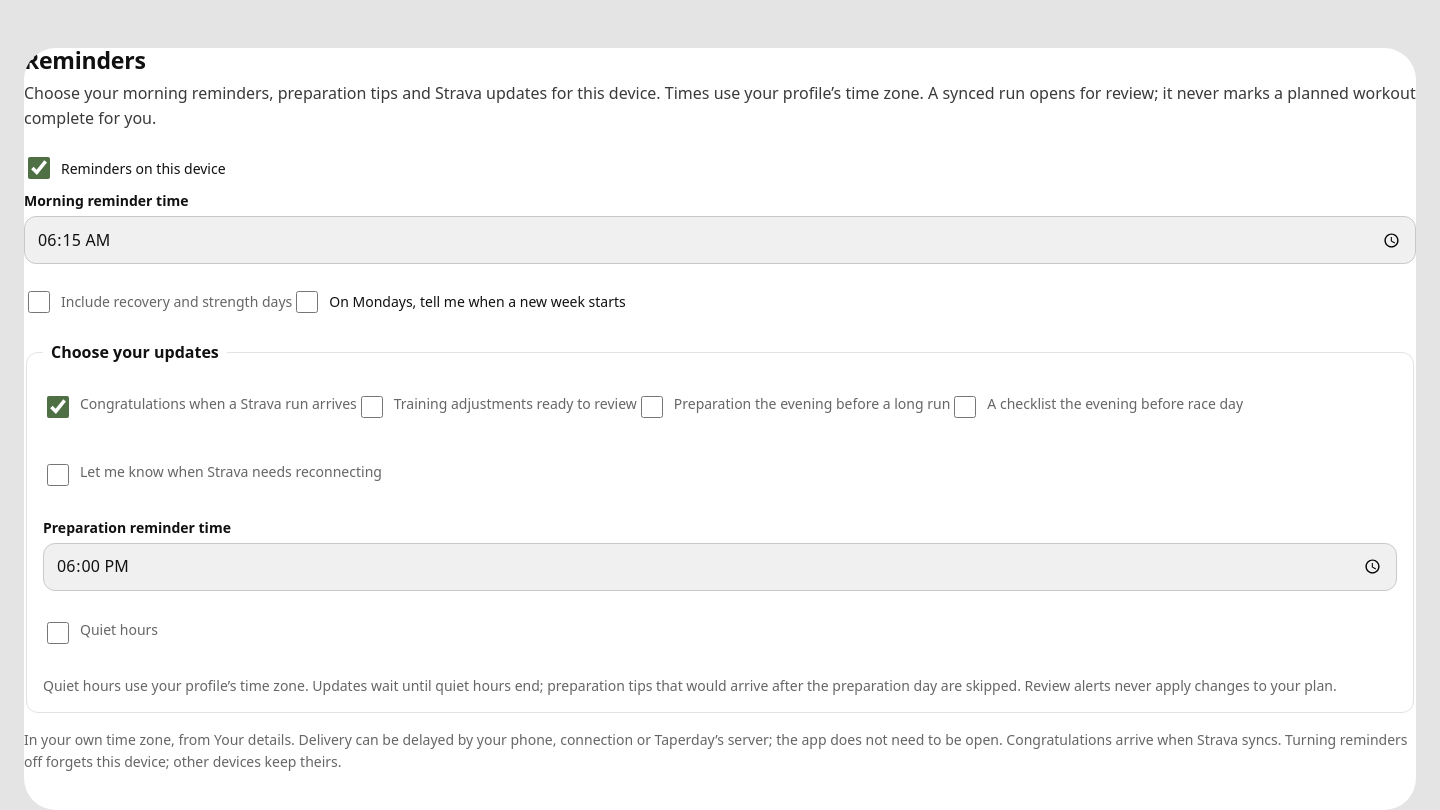
Test: reminders in Account › restores the saved preference after a failed update and lets the runner retry
Expected: the switch is checked, [28,158,50,180]
Click the checkbox labelled "Training adjustments ready to review".
click(372, 407)  # box [361,396,383,418]
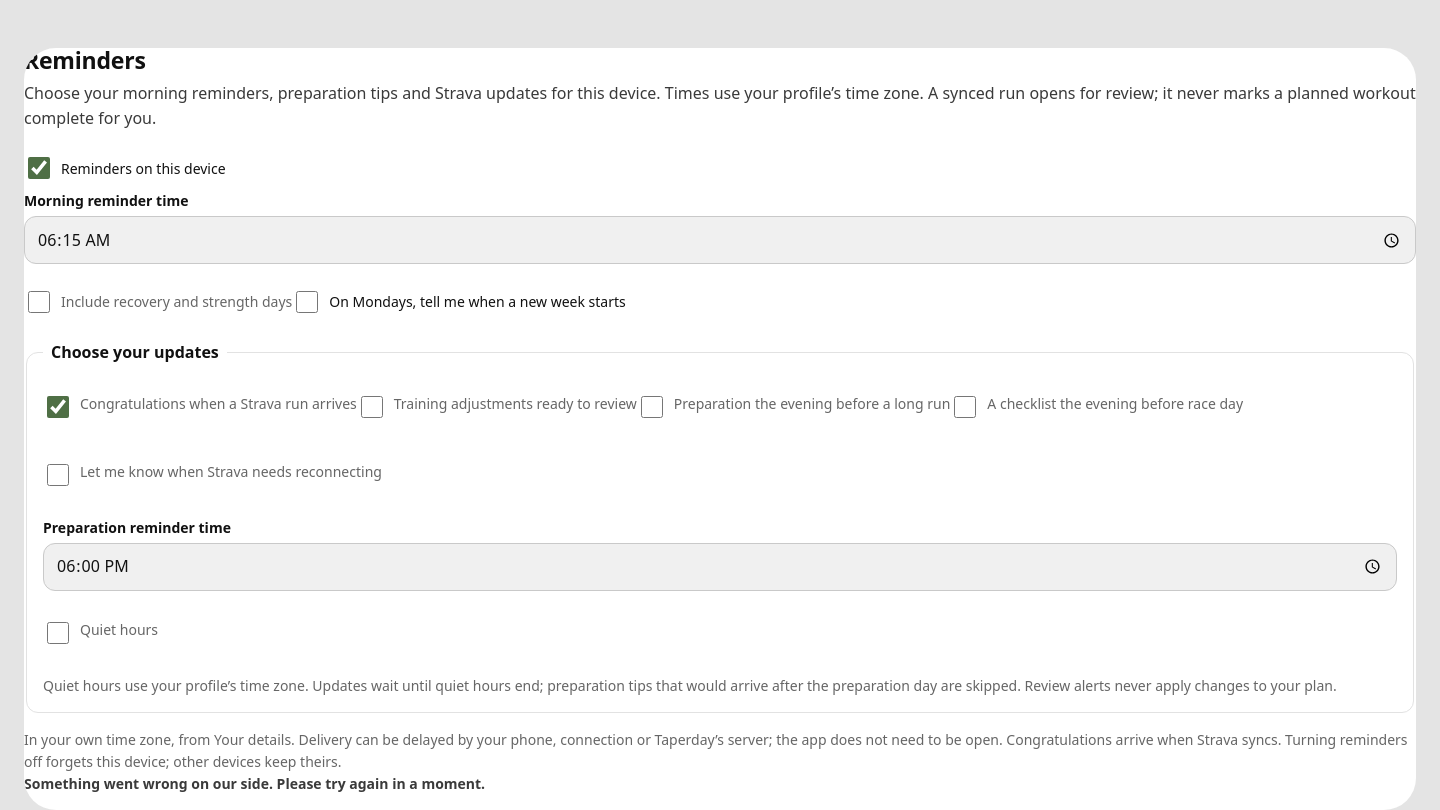
Now the message "Something went wrong on our side. Please try again in a moment." is shown, box [24,774,485,793]
Click the checkbox labelled "Training adjustments ready to review".
click(372, 407)  # box [361,396,383,418]
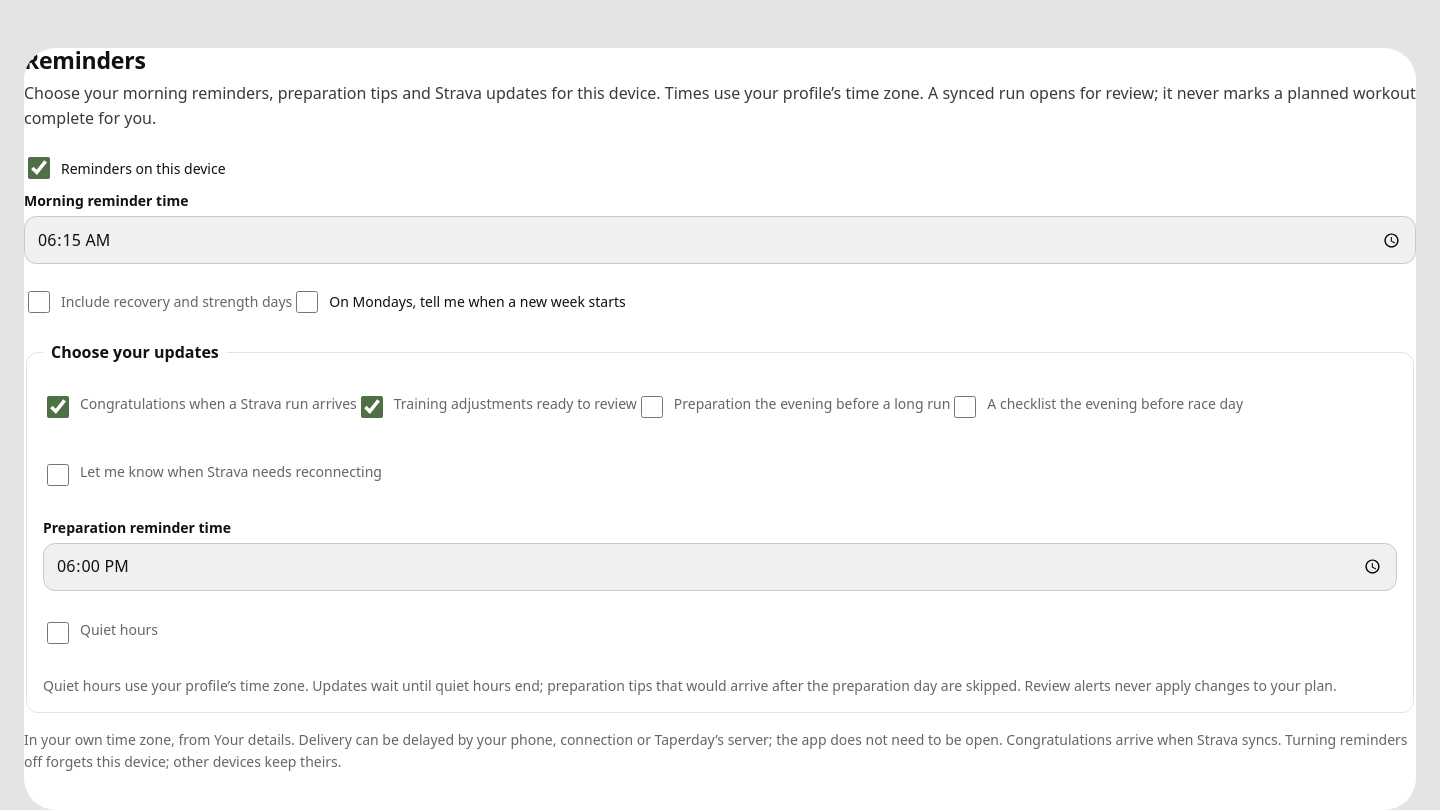
Now the checkbox labelled "Training adjustments ready to review" is checked, box [361,396,383,418]
Now the message "Something went wrong on our side. Please try again in a moment." is gone
